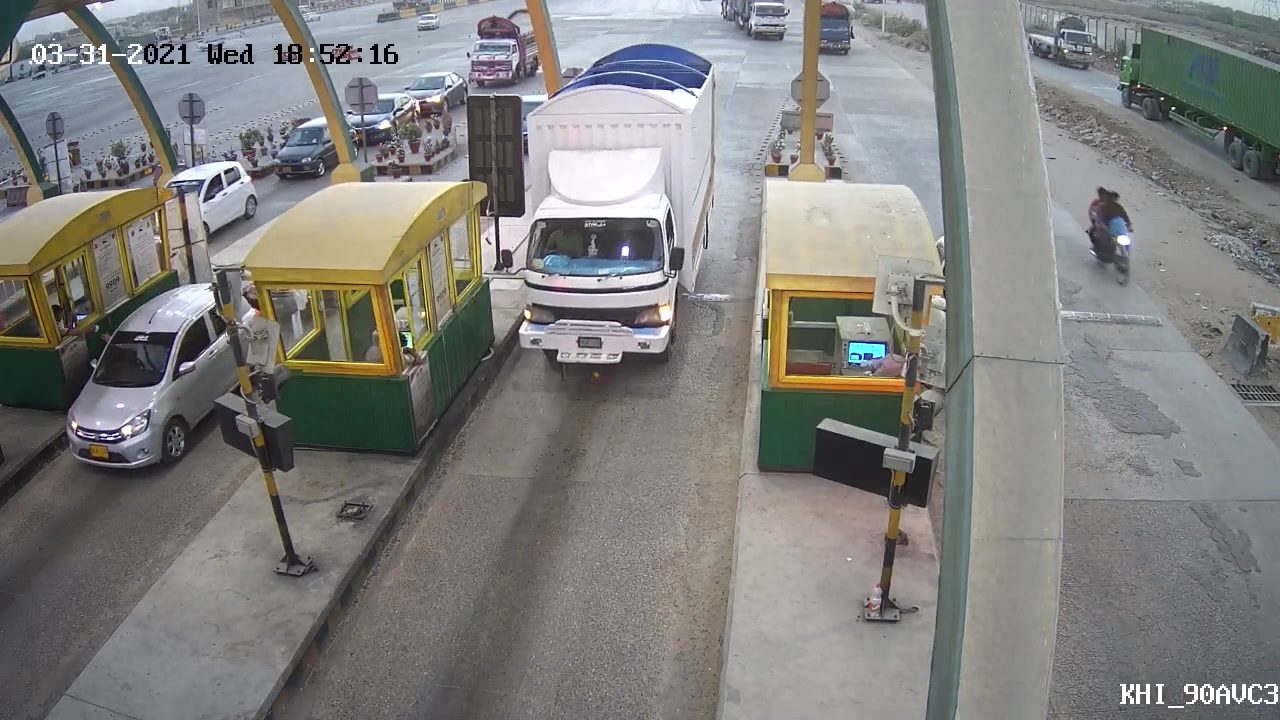F5: (501, 37, 733, 378)
